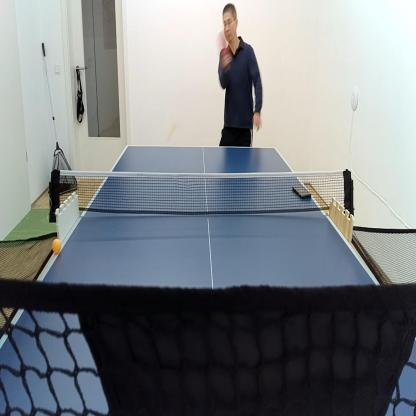Ball: (53, 238, 61, 254)
